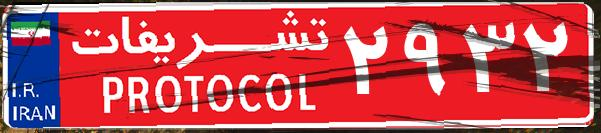2: (340, 20, 400, 115), (520, 20, 580, 115)
3: (460, 20, 520, 115)
9: (400, 20, 460, 115)
تشریفات: (60, 8, 340, 125)
